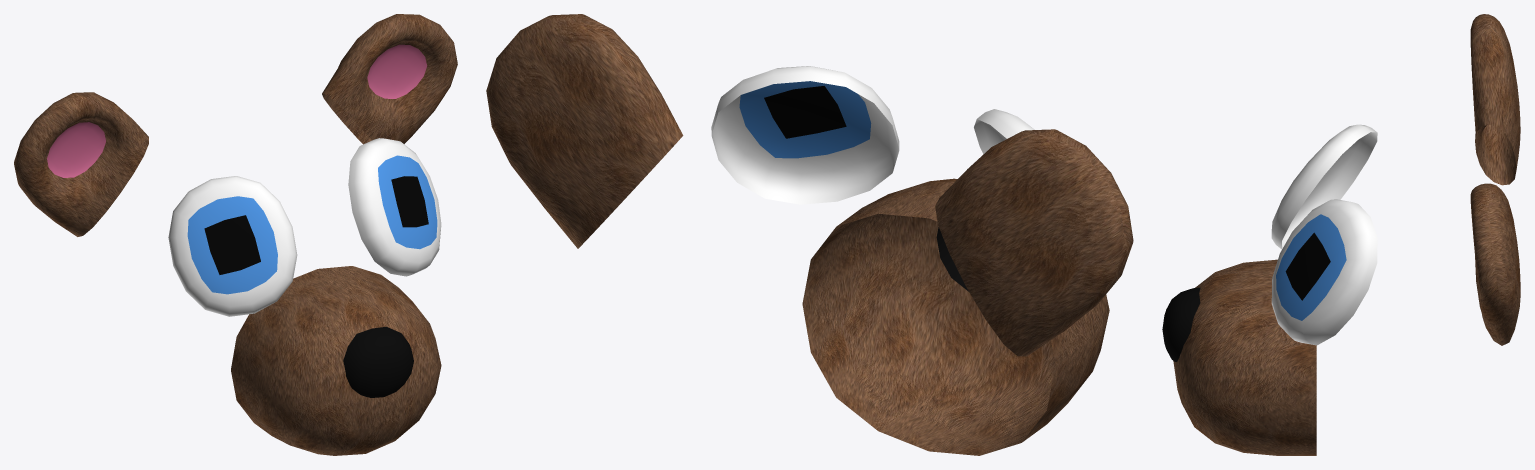
File: accessories_textured.FBX
3 views of the same model, side by side, from view 1: azimuth 30°, elevation 25°; view 2: azimuth 150°, elevation 25°; view 3: azimuth 270°, elevation 25° (orthographic). The views are drawn at different scales.
Parts seen in each view (by area): view 1: Accessories; view 2: Accessories; view 3: Accessories.
Part boxes in pixels (x1,y1,x2,y2): Accessories: [14, 14, 457, 455]; Accessories: [486, 14, 1133, 455]; Accessories: [1162, 14, 1520, 455].
Size of the model in its own units: 87.54 by 60.2 by 57.49.
6 materials, 1 textured.
